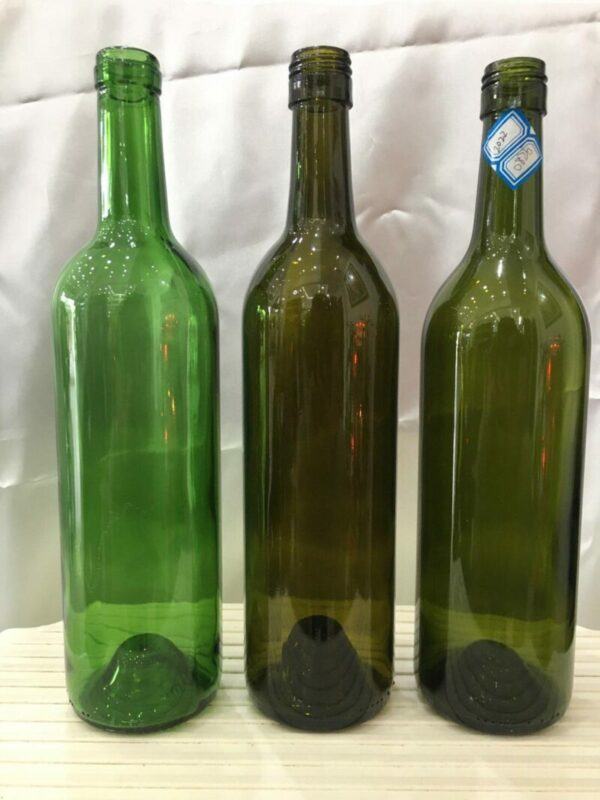glass_bottle: (36, 39, 233, 748), (416, 50, 596, 750), (240, 40, 403, 748)
